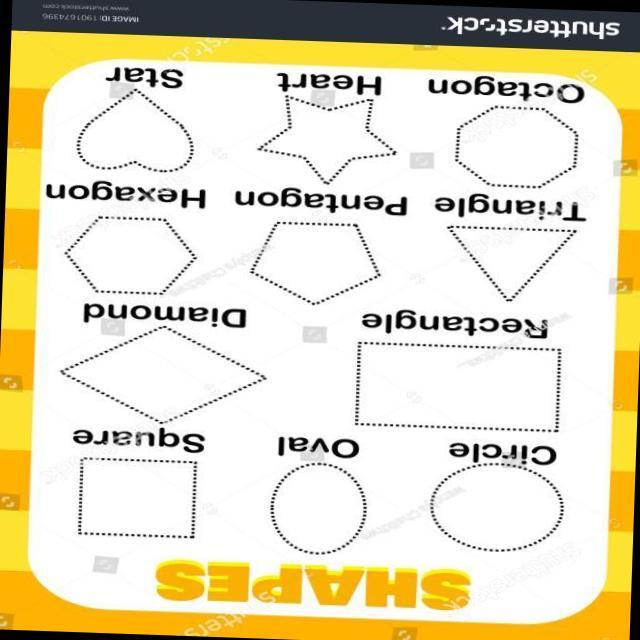circle: (415, 446, 579, 565), (252, 452, 382, 568)
square: (60, 433, 211, 549)
triangle: (431, 198, 582, 308)
